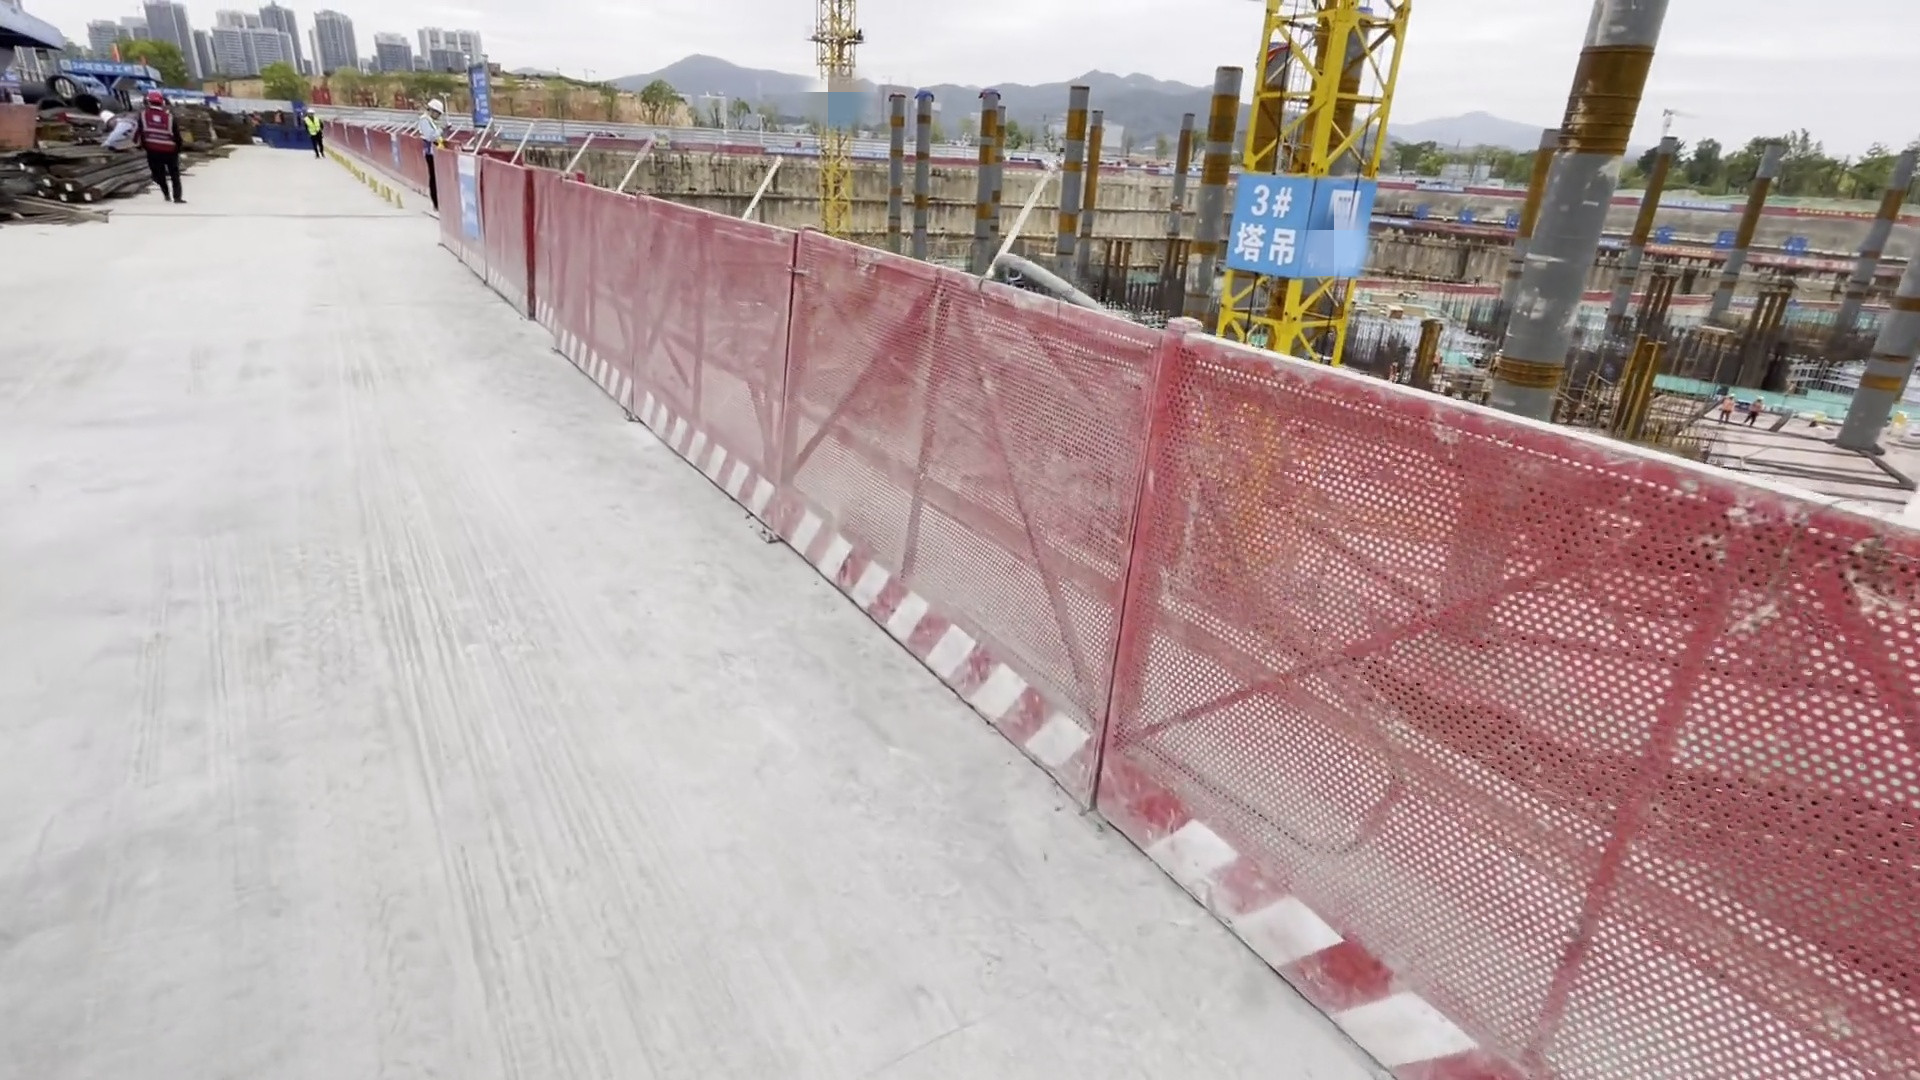fence: (1107, 312, 1920, 1071), (451, 166, 1143, 798)
helmet: (426, 98, 442, 117), (146, 91, 162, 104), (99, 111, 114, 124), (306, 108, 314, 116)
person: (144, 92, 184, 205), (414, 91, 448, 214), (99, 113, 140, 164), (301, 107, 328, 162)
vest: (140, 106, 175, 152), (305, 116, 319, 136)
